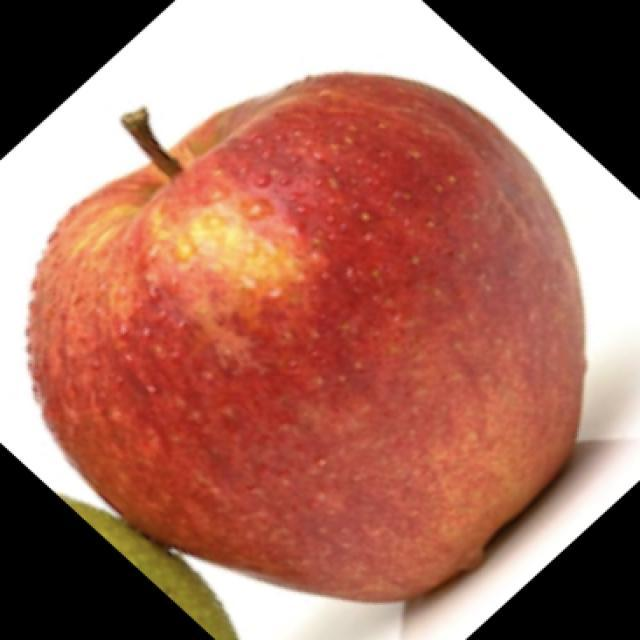Fresh Apple: (55, 82, 618, 600)
